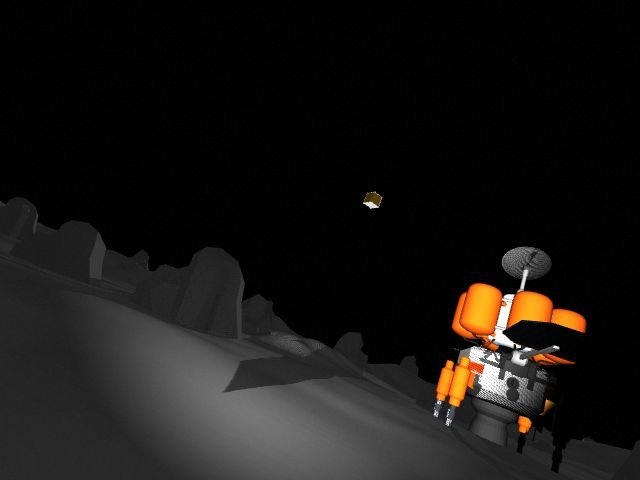cubesat: (361, 190, 383, 209)
